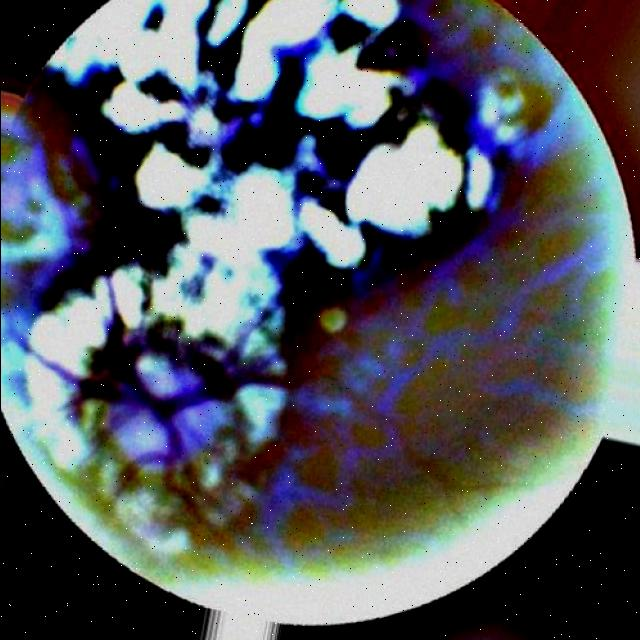Nerves: (27, 346, 221, 449), (236, 377, 285, 395)
Optic Disk: (107, 359, 231, 468)
